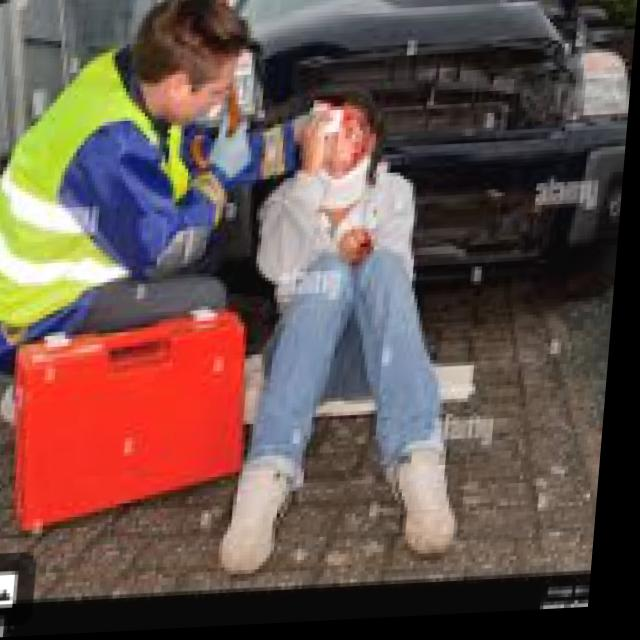injury: (118, 0, 253, 121), (284, 89, 401, 197), (337, 103, 375, 170)
